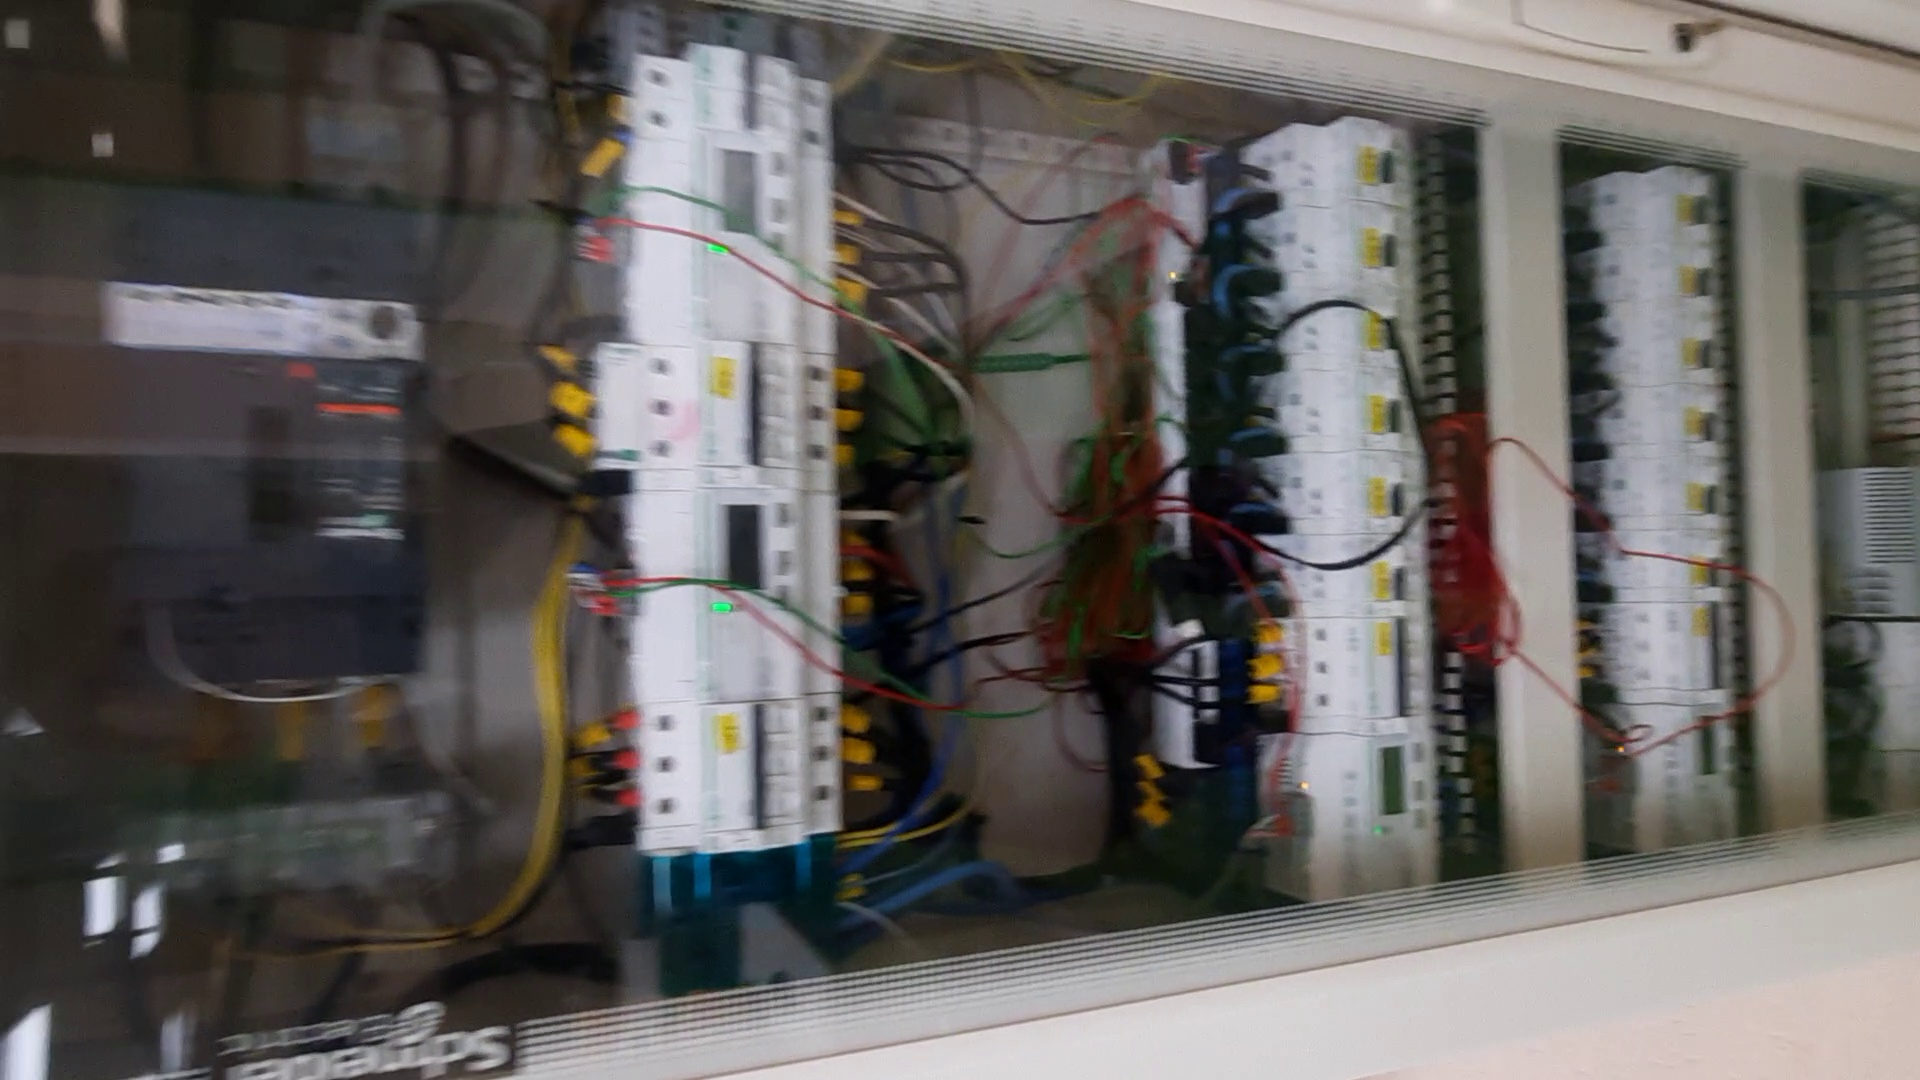stand1: (11, 1, 1920, 1076)
